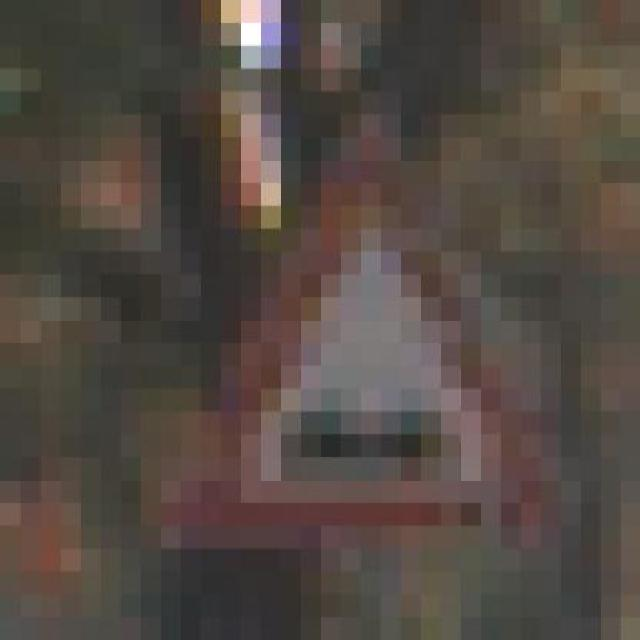Uneven Road: (160, 114, 560, 572)
